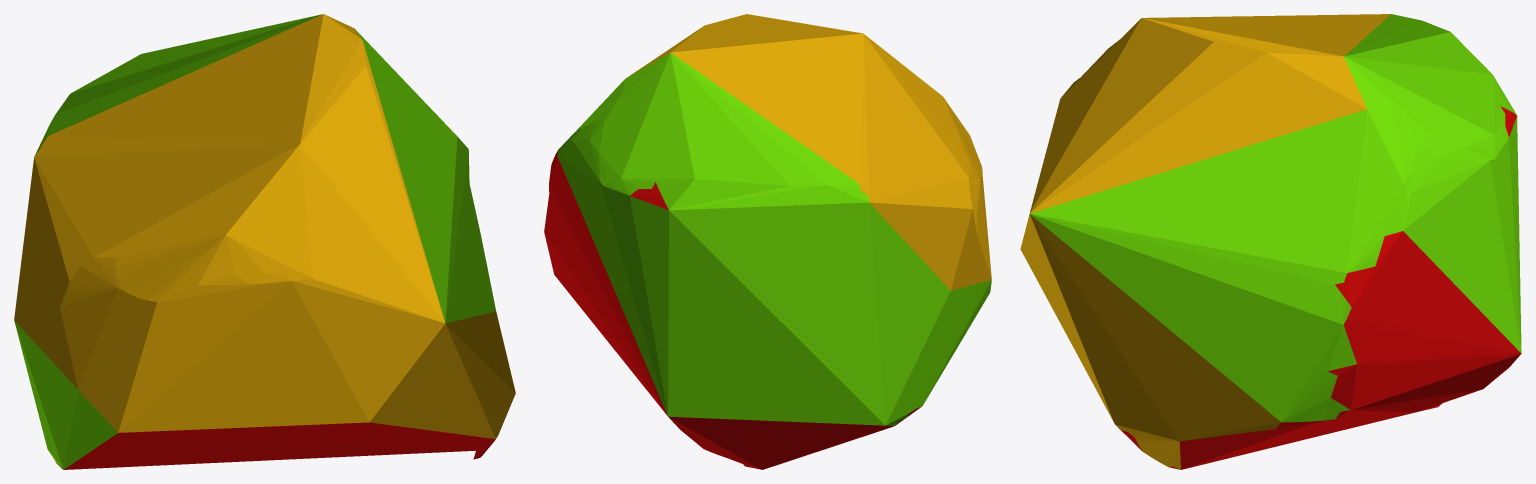
Rendered from SphereH_L7.fbx.
The picture shows the model from 3 angles, left to right: view 1: azimuth 30°, elevation 25°; view 2: azimuth 150°, elevation 25°; view 3: azimuth 270°, elevation 25°; orthographic projection. The views are drawn at different scales.
Bounding box in the file's own units: 1.98 × 1.77 × 1.87.
